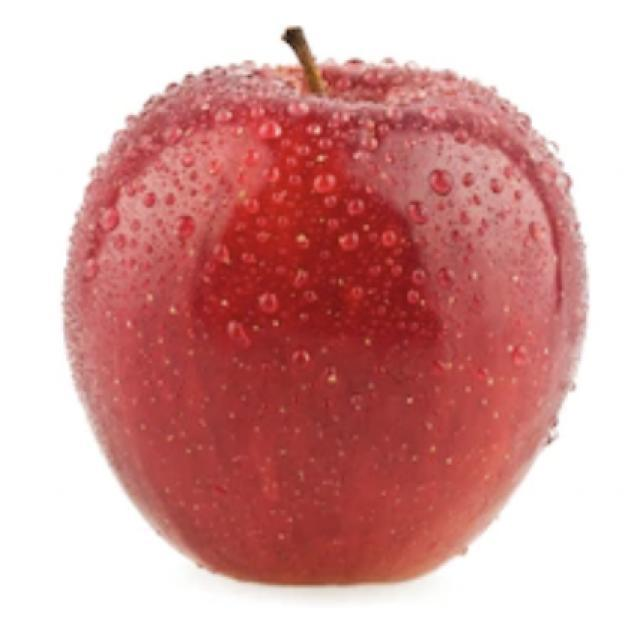Fresh Apple: (53, 52, 570, 575)
